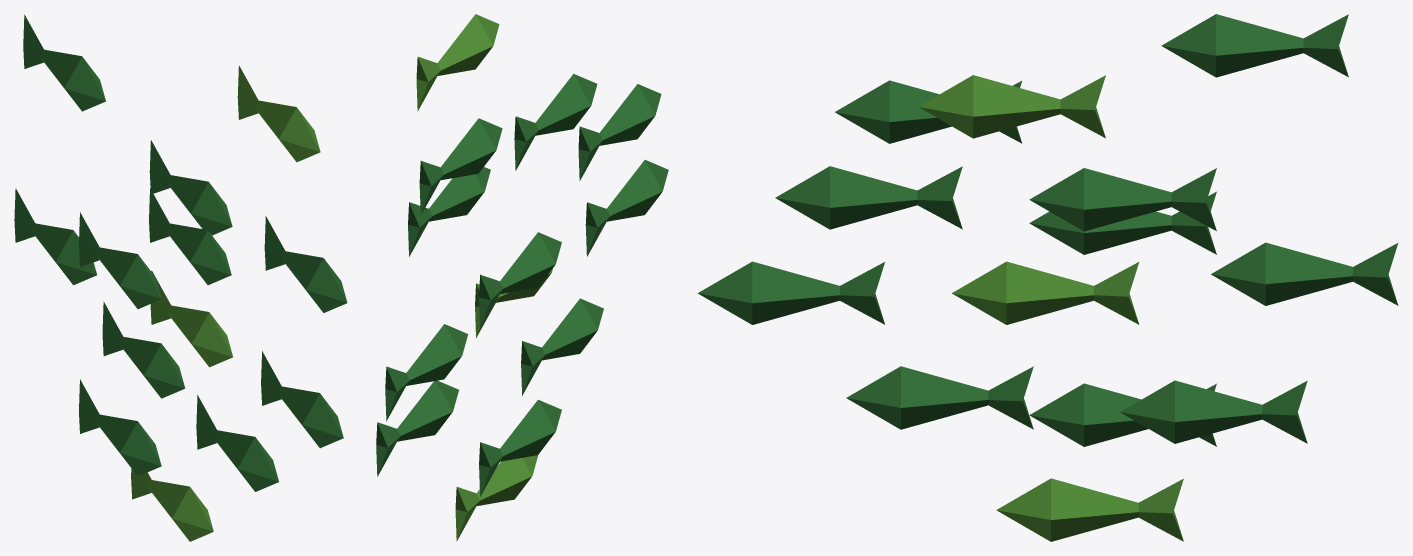
File: animals_fish-swarm.fbx
3 views of the same model, side by side, from view 1: azimuth 30°, elevation 25°; view 2: azimuth 150°, elevation 25°; view 3: azimuth 270°, elevation 25° (orthographic). The views are drawn at different scales.
Parts seen in each view (by area): view 1: animals_fish_swarm; view 2: animals_fish_swarm; view 3: animals_fish_swarm.
Part boxes in pixels (x1,y1,x2,y2): animals_fish_swarm: [14, 14, 347, 541]; animals_fish_swarm: [376, 14, 668, 541]; animals_fish_swarm: [697, 14, 1398, 541].
Size of the model in its own units: 60.88 by 160 by 200.
